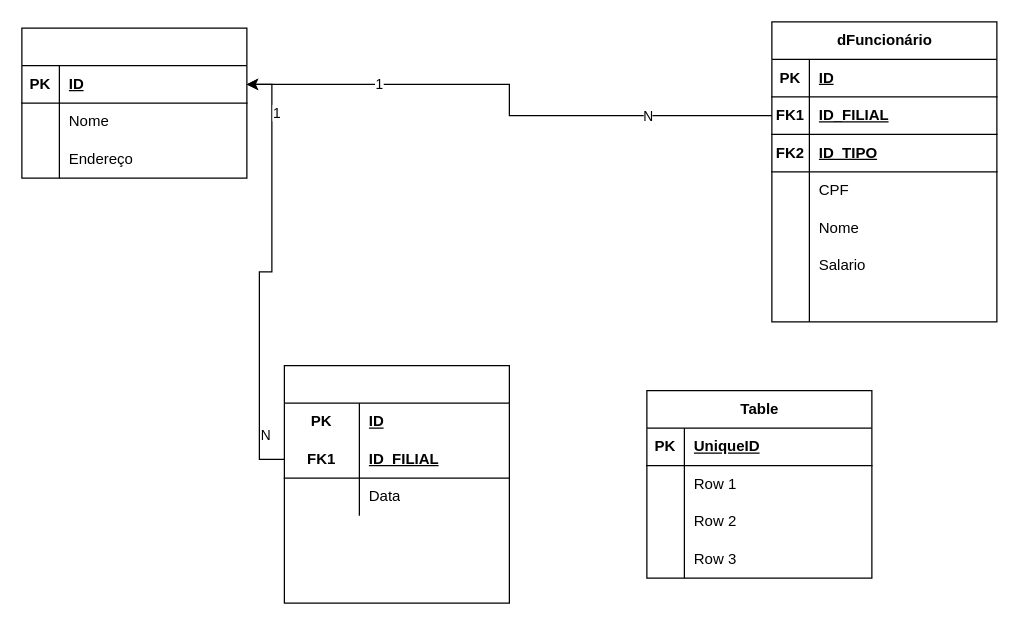
Image size: 1019x625. Some labels were removed from this diagram. The shapes that lost their labels are listed below. From the top down, each one's box as (x1, y1, x2, y2) in pixels, then its label:
(21, 27, 247, 178): dFilial
(283, 364, 509, 603): fVendas
